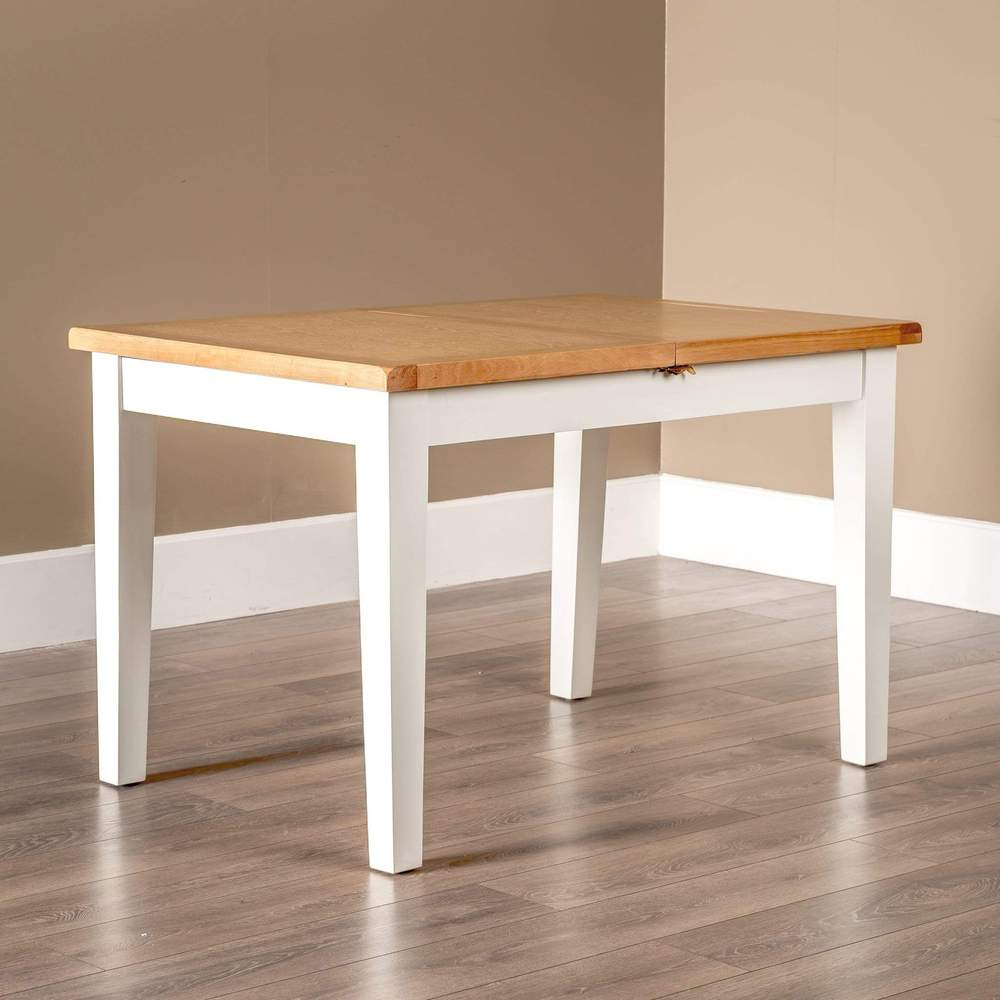meja: (57, 274, 935, 864)
